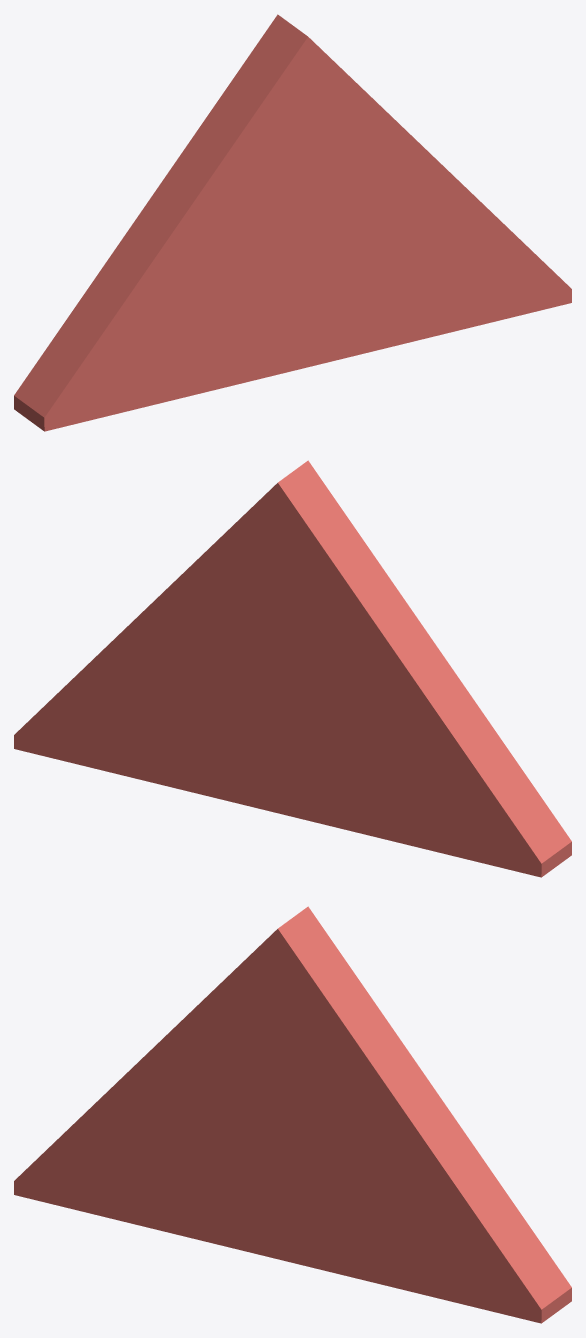
File: roof_wall.fbx
3 renders of one model, top to bottom at view 1: azimuth 30°, elevation 25°; view 2: azimuth 150°, elevation 25°; view 3: azimuth 330°, elevation 25°, orthographic.
Visible parts, largest first — view 1: dach_sciana; view 2: dach_sciana; view 3: dach_sciana.
Boxes of the visible parts, bbox=[...] form: dach_sciana: bbox=[14, 14, 571, 431]; dach_sciana: bbox=[14, 460, 571, 877]; dach_sciana: bbox=[14, 906, 571, 1323].
Bounding box in the file's own units: 400 × 240 × 40.03.
